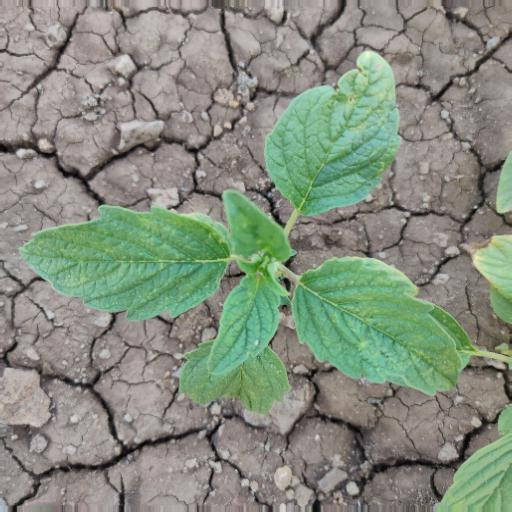crop: (19, 47, 476, 451)
